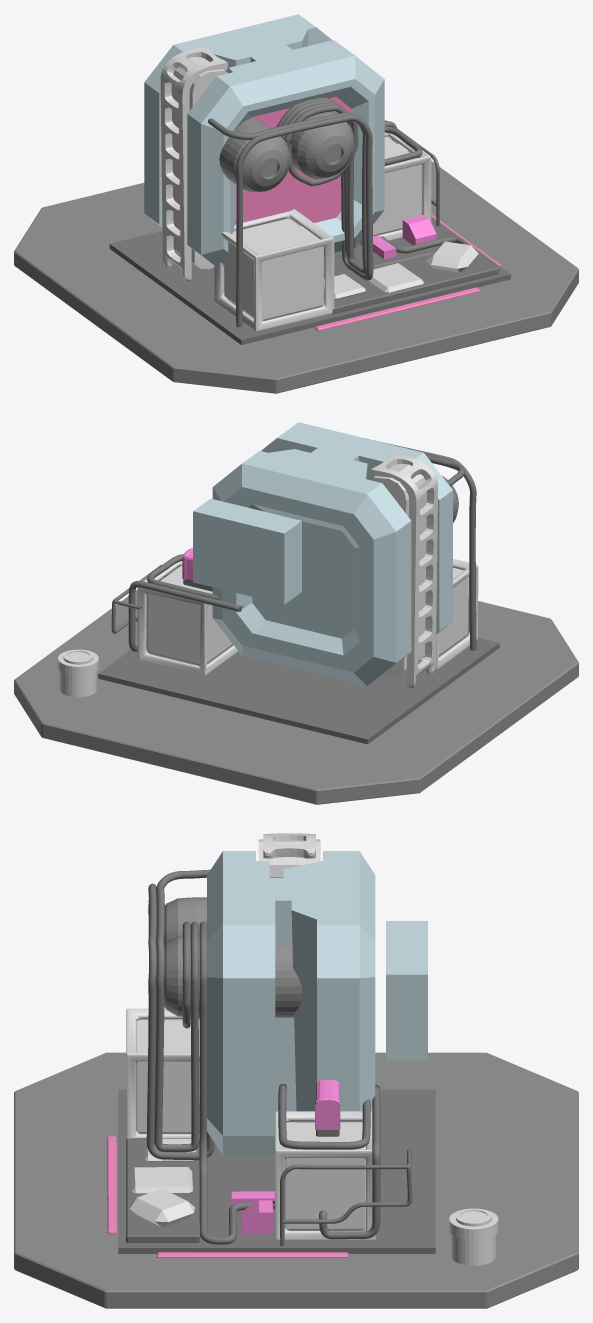
Rendered from WIP-Generator2.fbx.
3 renders of one model, top to bottom at view 1: azimuth 30°, elevation 25°; view 2: azimuth 150°, elevation 25°; view 3: azimuth 270°, elevation 25°, orthographic. The views are drawn at different scales.
Parts seen in each view (by area): view 1: Cube, Cube.001, NurbsCurve.002, Plane, outer glass, Cylinder.003, larger cube, Cylinder, Plane.003, Cylinder.001, outer glass.001, Cylinder.002 (+6 smaller); view 2: Cube, Cube.001, Plane, Cube.005, Cylinder.003, outer glass.001, NurbsCurve.002, larger cube.001, Cylinder.002, Cylinder.004, outer glass, larger cube; view 3: Cube, Cube.001, Plane, NurbsCurve.002, outer glass.001, Cube.005, outer glass, Plane.003, Cylinder.001, larger cube.001, Cylinder.004, larger cube (+8 smaller).
Part boxes in pixels (box(x1,y1,x2,y2)): Cube: box(14, 150, 578, 393); Cube.001: box(144, 14, 384, 273); NurbsCurve.002: box(208, 97, 467, 327); Plane: box(109, 209, 510, 344); outer glass: box(224, 218, 323, 320); Cylinder.003: box(160, 47, 228, 281); larger cube: box(214, 209, 334, 331); Cylinder: box(219, 118, 290, 192); Plane.003: box(324, 252, 499, 314); Cylinder.001: box(281, 111, 354, 179); outer glass.001: box(373, 136, 421, 235); Cylinder.002: box(171, 57, 227, 269); Cube: box(14, 568, 578, 804); Cube.001: box(212, 422, 452, 685); Plane: box(98, 637, 499, 744); Cube.005: box(193, 498, 301, 604); Cylinder.003: box(370, 454, 437, 688); outer glass.001: box(147, 565, 232, 665); NurbsCurve.002: box(111, 438, 476, 651); larger cube.001: box(137, 561, 237, 675); Cylinder.002: box(370, 464, 426, 675); Cylinder.004: box(58, 649, 98, 697); outer glass: box(423, 568, 468, 657); larger cube: box(418, 558, 478, 670); Cube: box(14, 1052, 578, 1308); Cube.001: box(207, 851, 375, 1155); Plane: box(118, 1089, 435, 1253); NurbsCurve.002: box(146, 869, 412, 1246); outer glass.001: box(285, 1122, 365, 1230); Cube.005: box(386, 921, 427, 1060); outer glass: box(136, 1020, 199, 1133); Plane.003: box(126, 1138, 199, 1242); Cylinder.001: box(164, 935, 302, 1017); larger cube.001: box(275, 1111, 375, 1239); Cylinder.004: box(449, 1208, 498, 1265); larger cube: box(126, 1008, 215, 1145).
Size of the model in its own units: 200 by 114 by 200.
